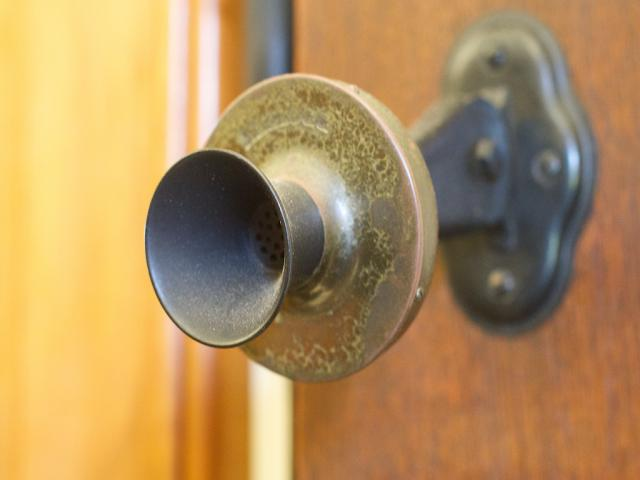Door-handle: (132, 4, 600, 391)
